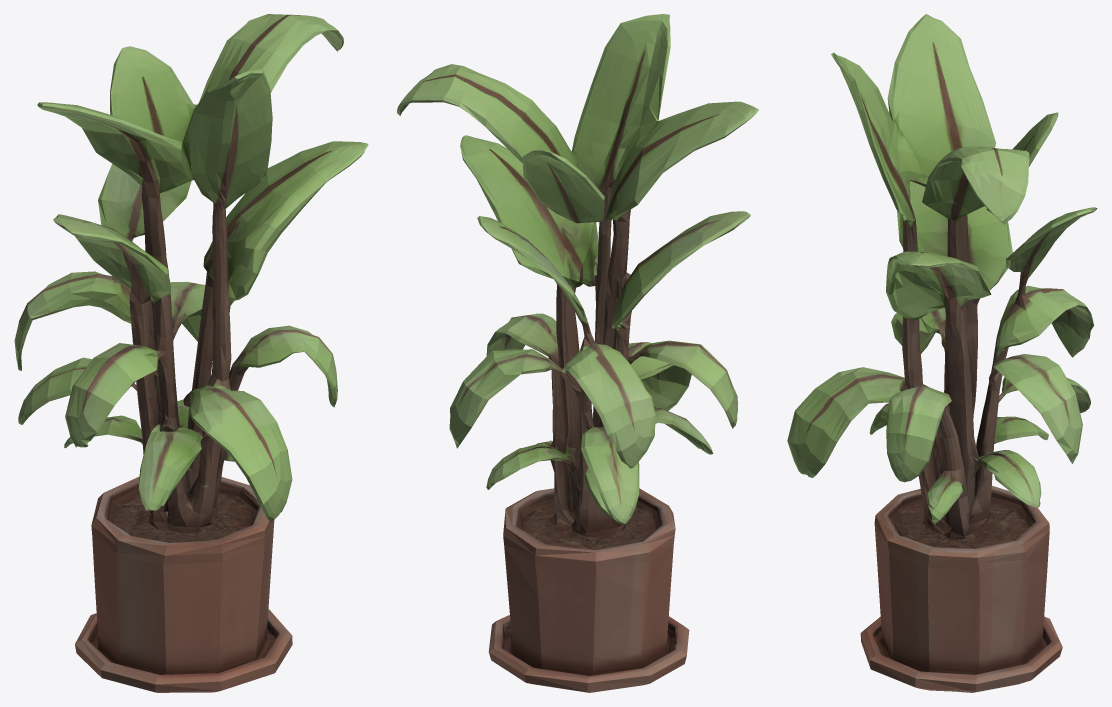
The model's file is plant.fbx.
The picture shows the model from 3 angles, left to right: view 1: azimuth 30°, elevation 25°; view 2: azimuth 150°, elevation 25°; view 3: azimuth 270°, elevation 25°; orthographic projection. The views are drawn at different scales.
Parts seen in each view (by area): view 1: Mesh_0; view 2: Mesh_0; view 3: Mesh_0.
Boxes of the visible parts, box(x1,y1,x2,y2) form: Mesh_0: box(14, 14, 368, 692); Mesh_0: box(397, 14, 758, 692); Mesh_0: box(787, 14, 1097, 692).
Bounding box in the file's own units: 1.67 × 3 × 1.4.
1 material, 1 textured.
